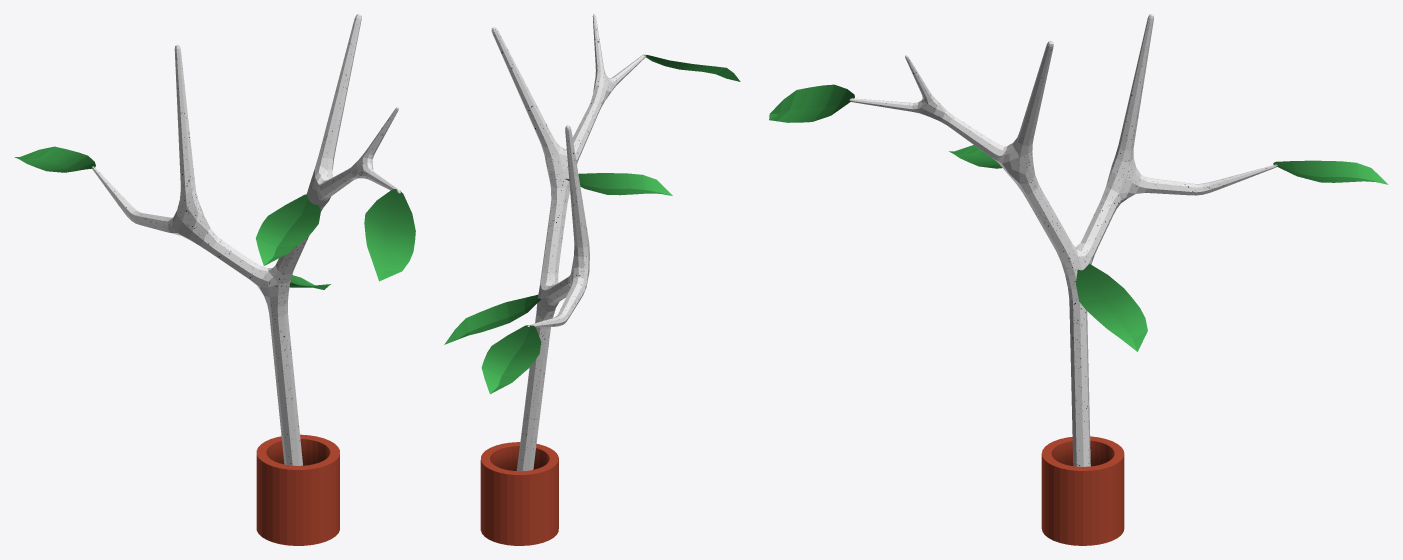
The model's file is plant.gltf.
The picture shows the model from 3 angles, left to right: view 1: azimuth 30°, elevation 25°; view 2: azimuth 150°, elevation 25°; view 3: azimuth 270°, elevation 25°; orthographic projection. The views are drawn at different scales.
Parts seen in each view (by area): view 1: Plane, Cylinder, Plane.001, Plane.002, Plane.004; view 2: Plane, Cylinder, Plane.004, Plane.003, Plane.002, Plane.001; view 3: Plane, Cylinder, Plane.003, Plane.001, Plane.004.
Boxes of the visible parts, <box> form: Plane: <box>92,14,400,465</box>; Cylinder: <box>256,434,339,545</box>; Plane.001: <box>364,189,415,281</box>; Plane.002: <box>255,194,320,265</box>; Plane.004: <box>14,146,95,172</box>; Plane: <box>491,14,646,471</box>; Cylinder: <box>480,442,558,545</box>; Plane.004: <box>481,325,541,394</box>; Plane.003: <box>444,294,541,344</box>; Plane.002: <box>565,173,672,195</box>; Plane.001: <box>644,55,740,81</box>; Plane: <box>849,14,1277,466</box>; Cylinder: <box>1041,436,1124,545</box>; Plane.003: <box>1076,263,1147,351</box>; Plane.001: <box>769,84,854,122</box>; Plane.004: <box>1273,160,1388,184</box>.
Size of the model in its own units: 1.06 by 2.67 by 2.95.
Materials: 6 (6 with a texture image).
